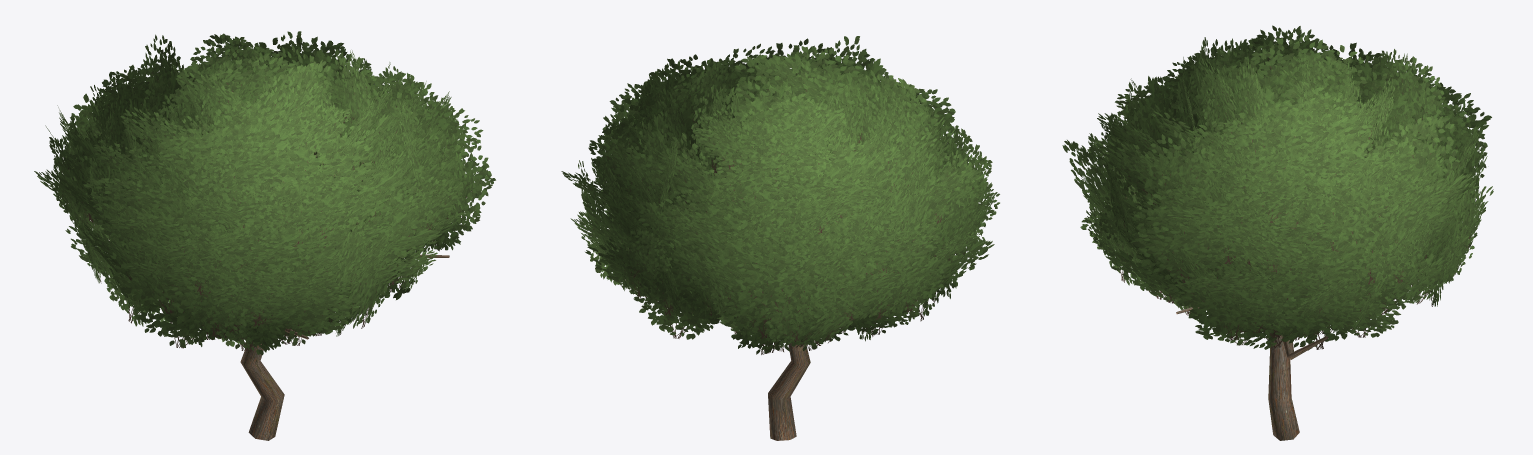
The model's file is trad_apple_c.glb.
3 renders of one model, left to right at view 1: azimuth 30°, elevation 25°; view 2: azimuth 150°, elevation 25°; view 3: azimuth 270°, elevation 25°, orthographic. The views are drawn at different scales.
Parts seen in each view (by area): view 1: trad_apple_c; view 2: trad_apple_c; view 3: trad_apple_c.
Boxes of the visible parts, box(x1,y1,x2,y2) form: trad_apple_c: box(34, 31, 495, 440); trad_apple_c: box(561, 36, 999, 440); trad_apple_c: box(1062, 25, 1493, 440).
Bounding box in the file's own units: 5.5 × 5 × 5.5.
Materials: 1 (1 with a texture image).
